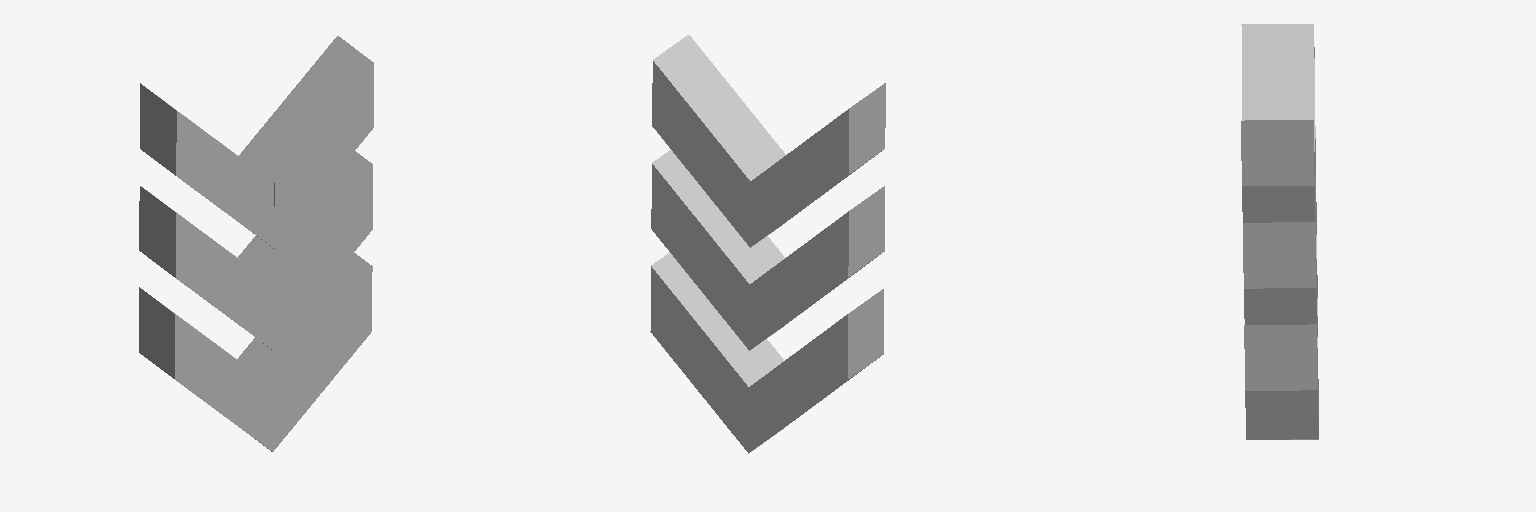
The model's file is SizeDown.obj.
3 views of the same model, side by side, from view 1: azimuth 30°, elevation 25°; view 2: azimuth 150°, elevation 25°; view 3: azimuth 270°, elevation 25° (orthographic).
Visible parts, largest first — view 1: Cube.001, Cube.005, Cube.003, Cube.004, Cube.002, Cube; view 2: Cube.001, Cube.003, Cube.005, Cube.004, Cube, Cube.002; view 3: Cube.005, Cube.003, Cube.001, Cube.
Boxes of the visible parts, box(x1,y1,x2,y2) form: Cube.001: box(239, 36, 373, 248); Cube.005: box(237, 253, 372, 451); Cube.003: box(238, 151, 372, 349); Cube.004: box(139, 287, 273, 451); Cube.002: box(139, 186, 273, 350); Cube: box(140, 83, 273, 247); Cube.001: box(652, 35, 785, 246); Cube.003: box(651, 150, 784, 349); Cube.005: box(650, 253, 783, 453); Cube.004: box(748, 289, 883, 452); Cube: box(750, 83, 885, 247); Cube.002: box(749, 186, 884, 350); Cube.005: box(1244, 324, 1318, 439); Cube.003: box(1243, 222, 1317, 336); Cube.001: box(1241, 120, 1315, 222); Cube: box(1241, 24, 1315, 210).
Bounding box in the file's own units: 6.27 × 11.19 × 2.15.